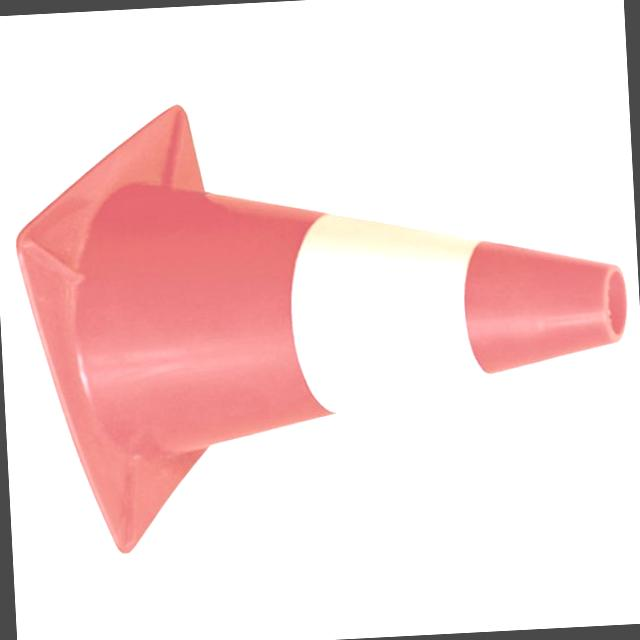cone: (0, 94, 640, 570)
